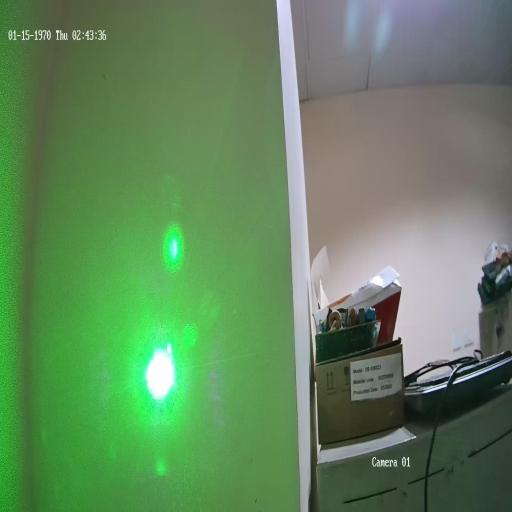laser: (138, 330, 181, 412)
